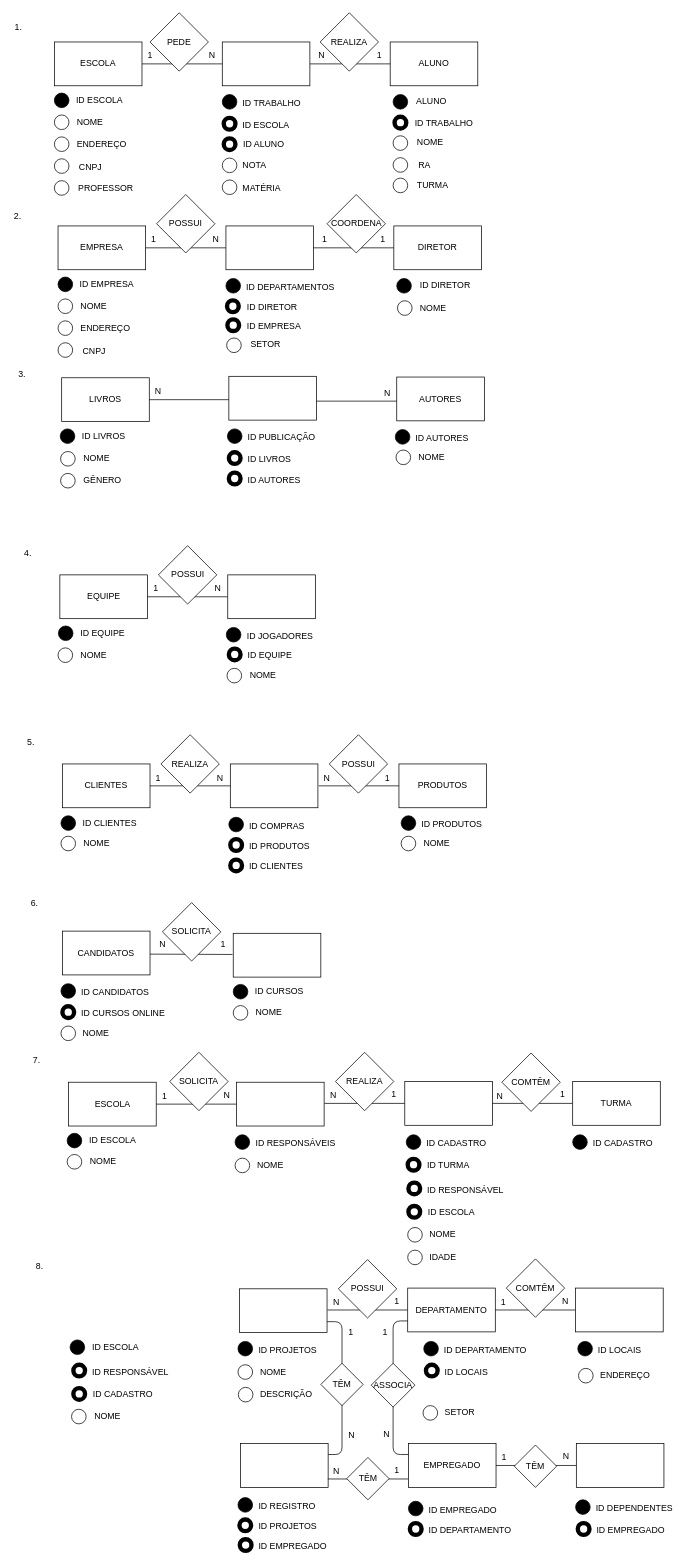
Image size: 694x1566. Some labels were removed from this diagram. Here are the shapes that lost their labels. From the top down, the centre of each, then its label:
point 266,63: TRABALHO
point 269,247: DEPARTAMENTOS
point 272,398: PUBLICAR
point 271,596: JOGADORES
point 274,785: COMPRAS
point 277,955: CURSOS ONLINE
point 280,1103: RESPONSÁVEIS
point 448,1103: CADASTRO
point 283,1310: PROJETOS
point 619,1309: LOCALIZAÇOES
point 284,1465: REGISTROS DE PROJETOS
point 620,1465: DEPENDENTES
